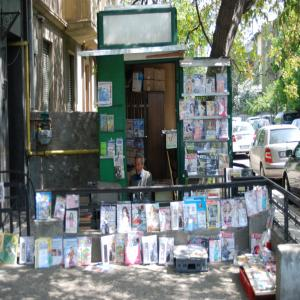Vehicle-registration-plate: (281, 151, 294, 160), (241, 146, 251, 151)
